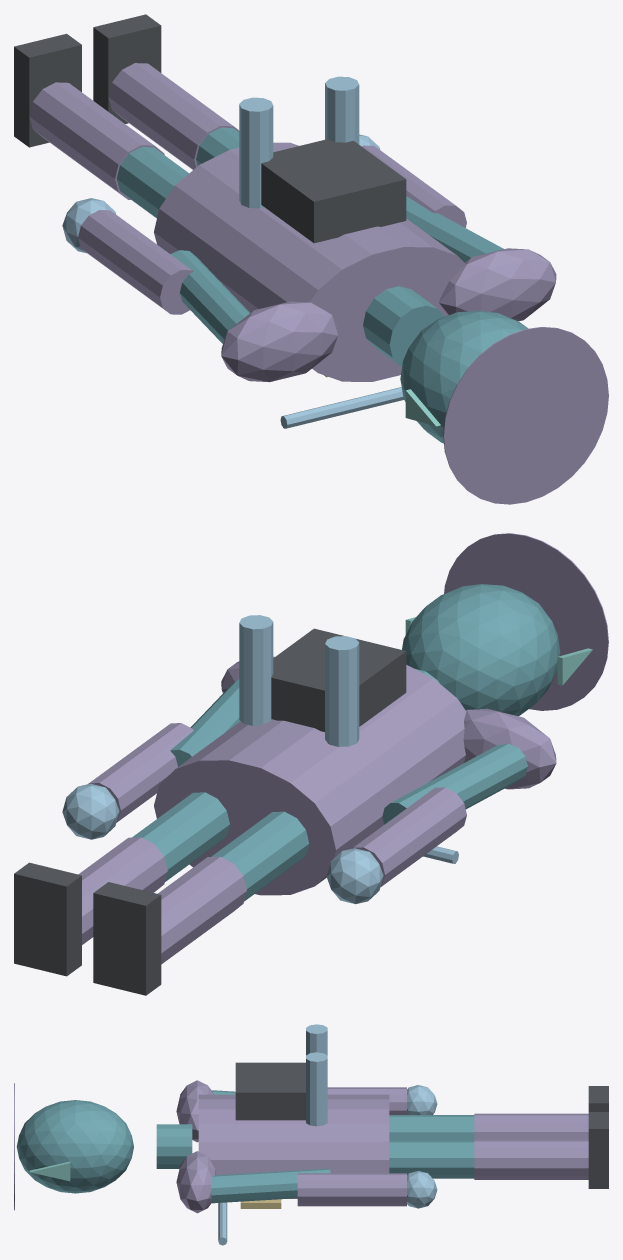
File: SWN-045_caldera_wove.glb
3 renders of one model, top to bottom at view 1: azimuth 30°, elevation 25°; view 2: azimuth 150°, elevation 25°; view 3: azimuth 270°, elevation 25°, orthographic. The views are drawn at different scales.
Parts seen in each view (by area): view 1: body_spine, rank_halo_ring, back_thruster_pack, shoulder_plate_-1, head, greave_-1, greave_1, shoulder_plate_1, forearm_gauntlet_-1, boot_-1, boot_1, neck (+10 smaller); view 2: body_spine, head, rank_halo_ring, back_thruster_pack, boot_-1, boot_1, greave_-1, forearm_gauntlet_-1, thigh_1, thigh_-1, forearm_gauntlet_1, upper_arm_-1 (+8 smaller); view 3: body_spine, head, greave_1, back_thruster_pack, forearm_gauntlet_1, thigh_1, greave_-1, upper_arm_1, thigh_-1, shoulder_plate_1, boot_1, aether_thruster_1 (+10 smaller).
Boxes of the visible parts, x1=… form: body_spine: x1=154, y1=142, x2=465, y2=381; rank_halo_ring: x1=443, y1=327, x2=608, y2=504; back_thruster_pack: x1=261, y1=139, x2=406, y2=243; shoulder_plate_-1: x1=221, y1=301, x2=338, y2=382; head: x1=400, y1=310, x2=528, y2=443; greave_-1: x1=29, y1=82, x2=164, y2=199; greave_1: x1=108, y1=63, x2=239, y2=169; shoulder_plate_1: x1=439, y1=248, x2=556, y2=321; forearm_gauntlet_-1: x1=78, y1=210, x2=193, y2=314; boot_-1: x1=14, y1=33, x2=81, y2=147; boot_1: x1=93, y1=14, x2=161, y2=123; neck: x1=363, y1=286, x2=444, y2=366; body_spine: x1=154, y1=665, x2=466, y2=895; head: x1=402, y1=584, x2=560, y2=716; rank_halo_ring: x1=444, y1=533, x2=608, y2=710; back_thruster_pack: x1=271, y1=628, x2=406, y2=731; boot_-1: x1=93, y1=882, x2=161, y2=995; boot_1: x1=14, y1=862, x2=81, y2=976; greave_-1: x1=157, y1=856, x2=246, y2=964; forearm_gauntlet_-1: x1=352, y1=787, x2=466, y2=886; thigh_1: x1=132, y1=792, x2=229, y2=881; thigh_-1: x1=211, y1=811, x2=309, y2=901; forearm_gauntlet_1: x1=88, y1=723, x2=193, y2=822; upper_arm_-1: x1=382, y1=743, x2=527, y2=824; body_spine: x1=198, y1=1094, x2=389, y2=1198; head: x1=16, y1=1100, x2=133, y2=1193; greave_1: x1=474, y1=1139, x2=588, y2=1179; back_thruster_pack: x1=235, y1=1062, x2=305, y2=1120; forearm_gauntlet_1: x1=297, y1=1173, x2=406, y2=1206; thigh_1: x1=389, y1=1140, x2=474, y2=1178; greave_-1: x1=474, y1=1113, x2=588, y2=1139; upper_arm_1: x1=211, y1=1168, x2=330, y2=1203; thigh_-1: x1=389, y1=1115, x2=474, y2=1140; shoulder_plate_1: x1=176, y1=1151, x2=216, y2=1213; boot_1: x1=588, y1=1112, x2=608, y2=1188; aether_thruster_1: x1=306, y1=1052, x2=327, y2=1126.
Size of the model in its own units: 1.02 by 0.758 by 2.34.
